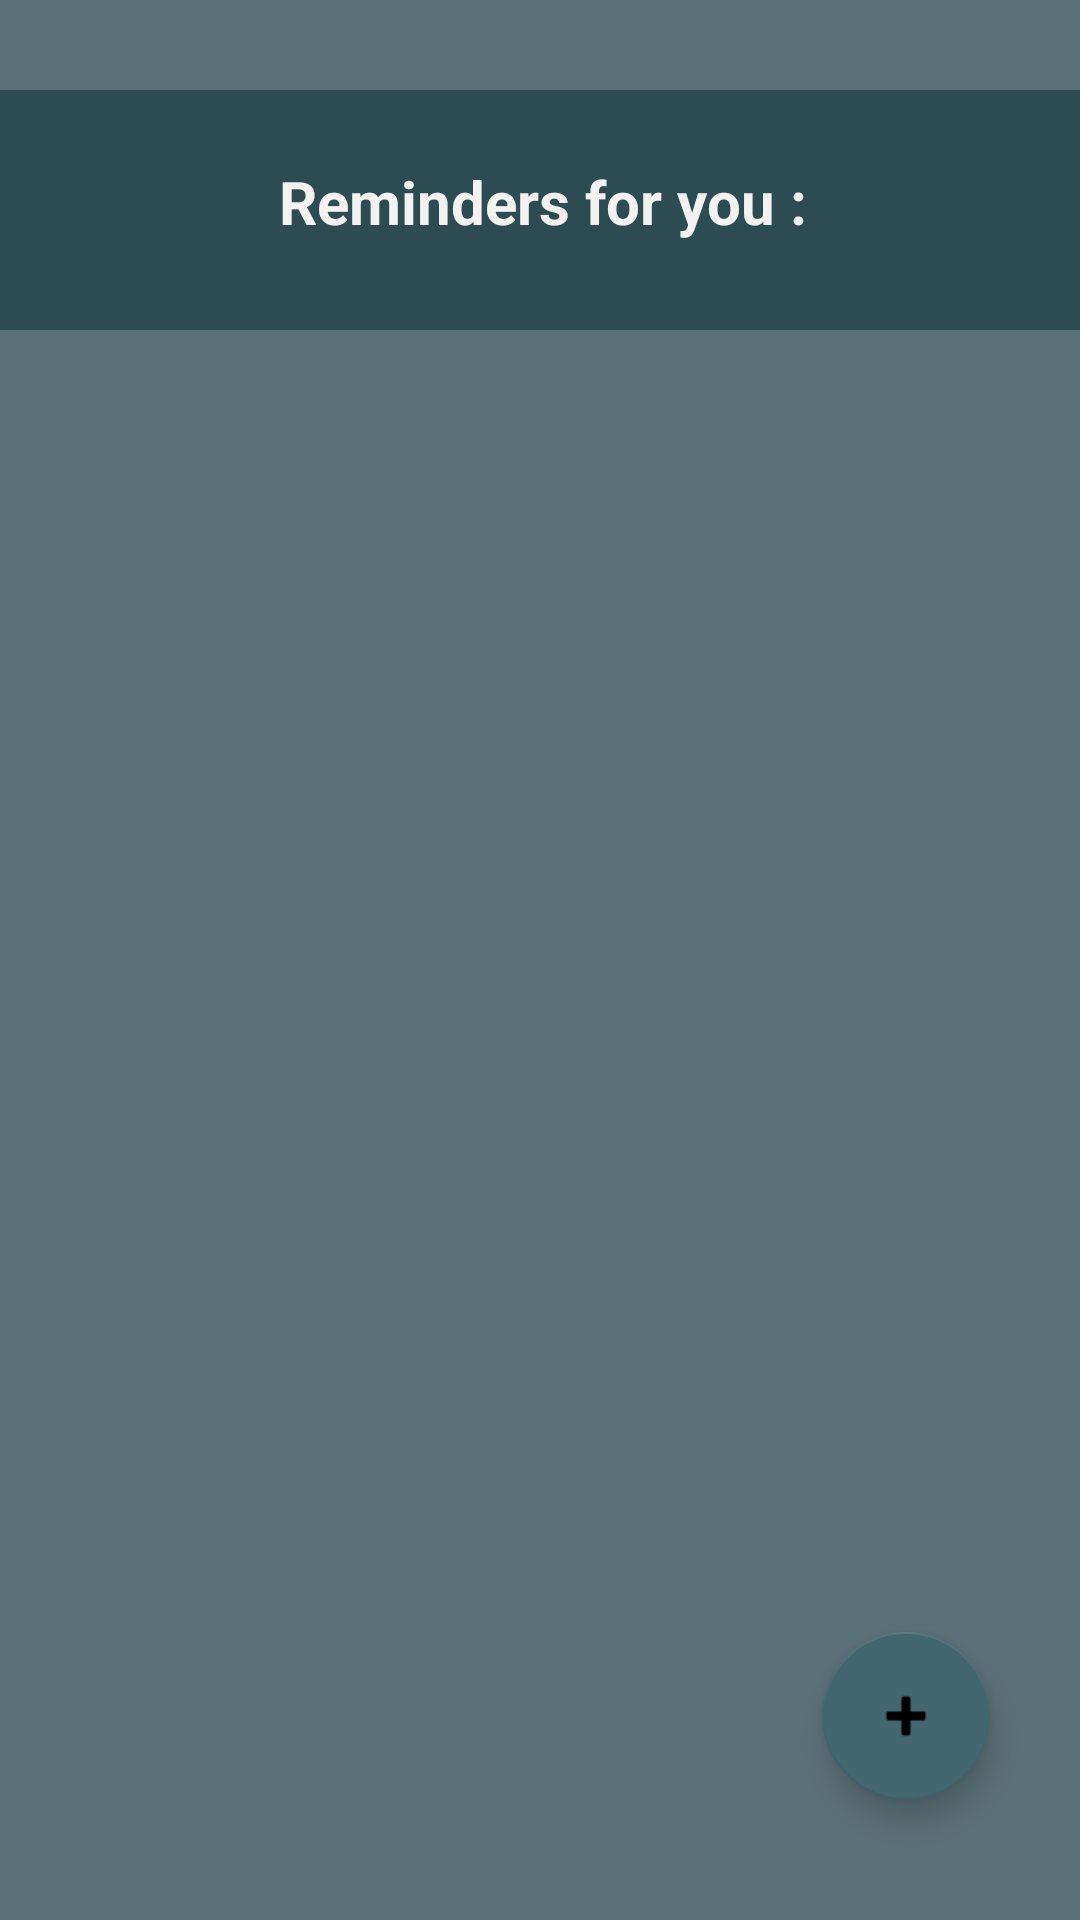

Icons on this 1080*1920 Android screen, each with the point to tap as (x=x, y=y):
add: (x=905, y=1717)
